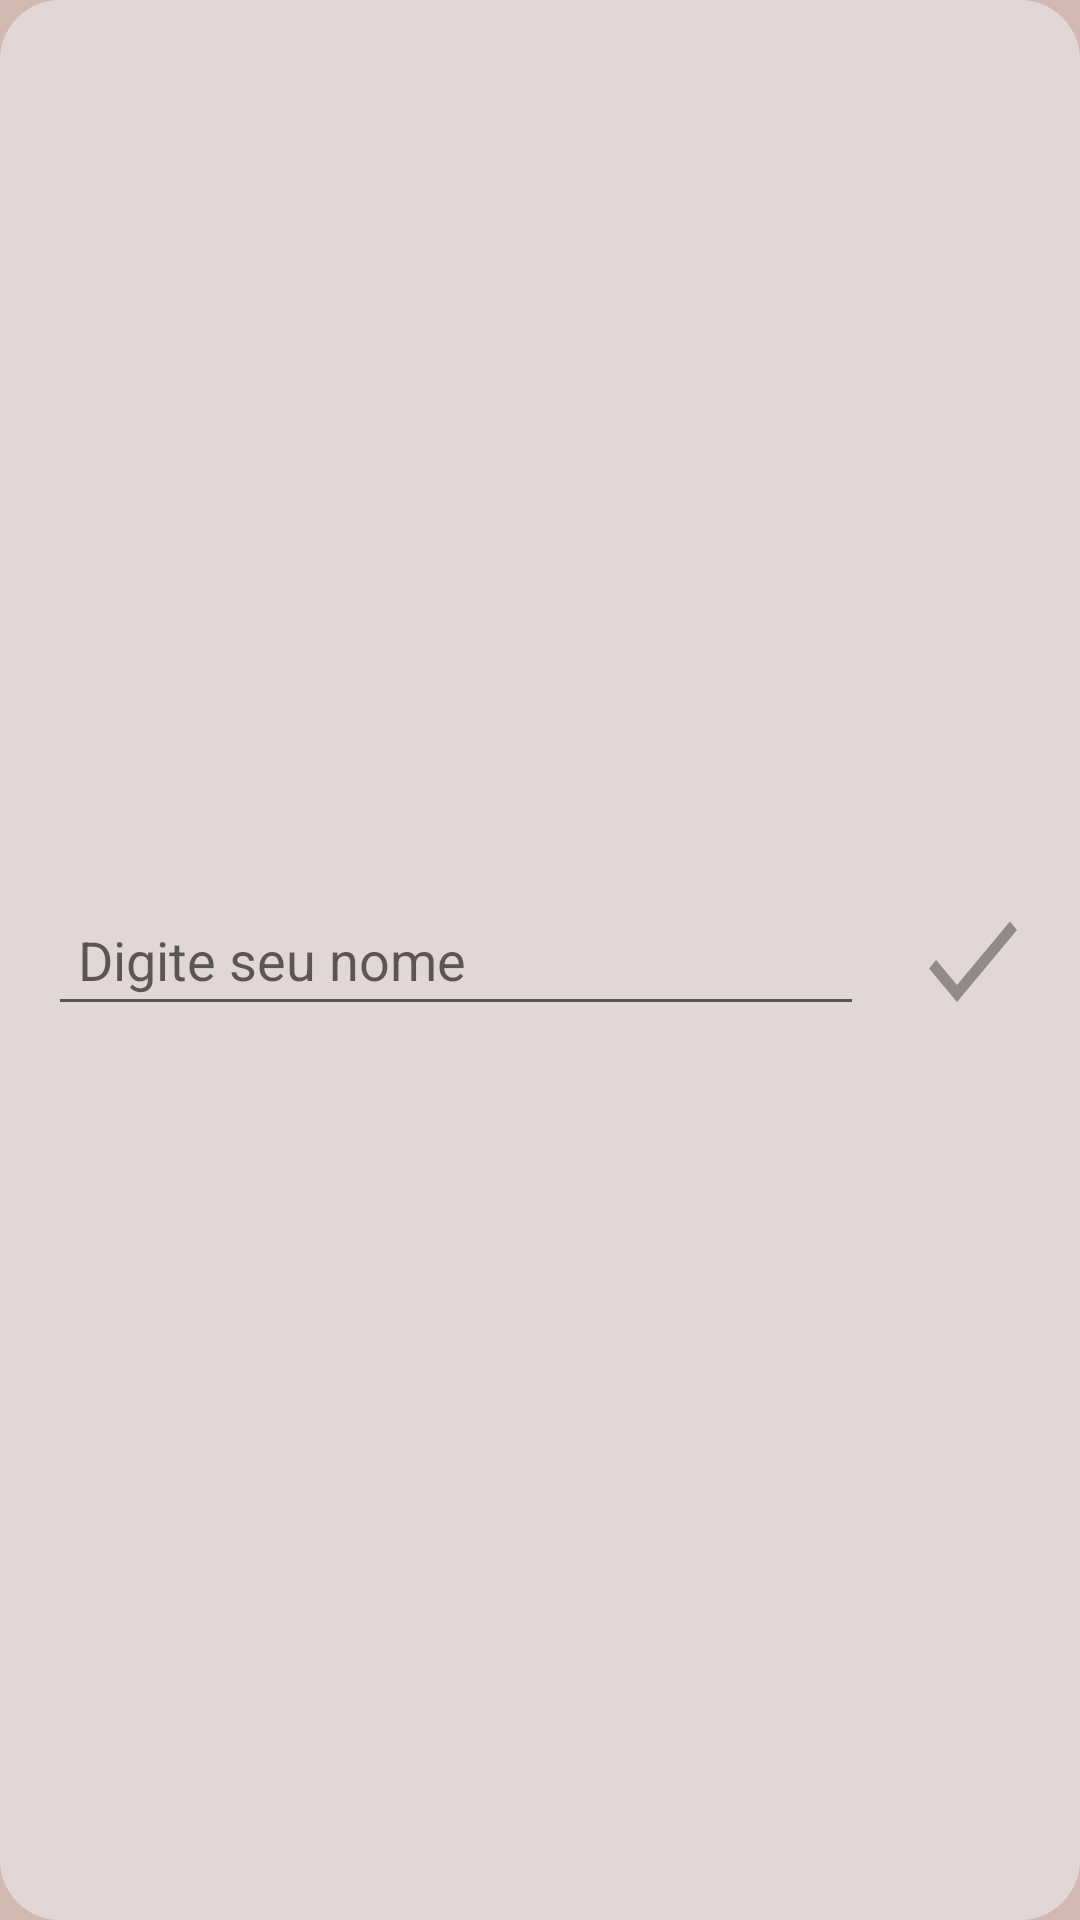

Icon bounding boxes for this 1080px×1920px phone screenshot, format (x1=x1, y1=y1, x2=x2, y2=y2):
Botão para salvar o nome do perfil: (x1=929, y1=922, x2=1017, y2=1002)
